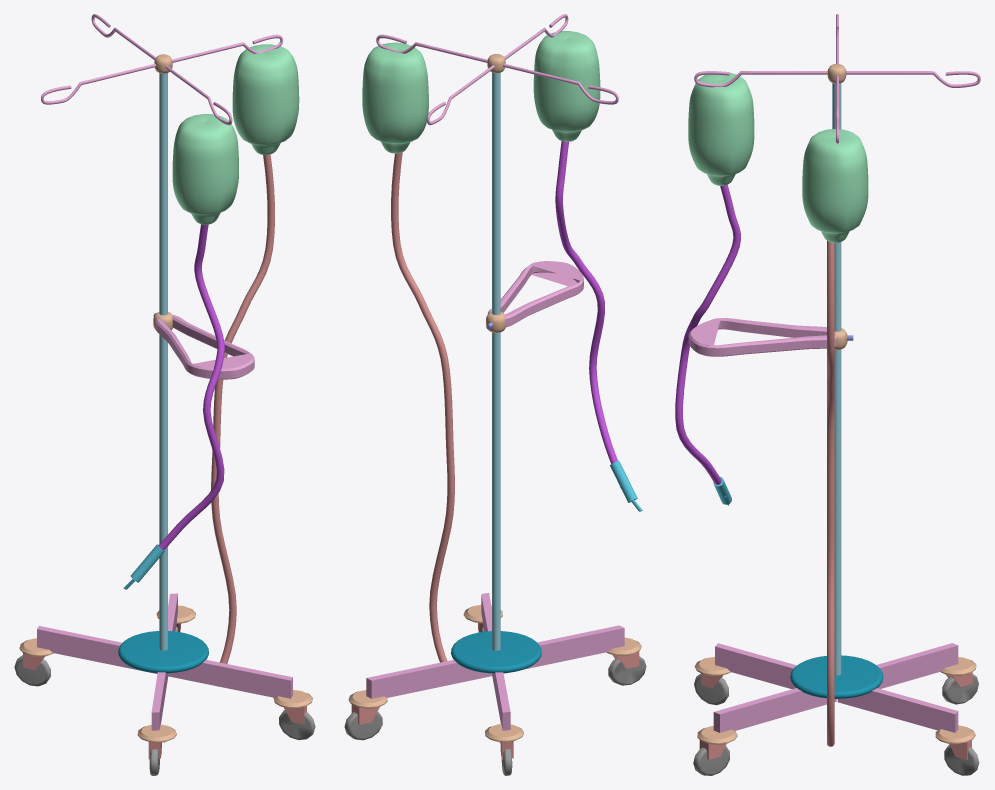
Rendered from Dropper.obj.
3 views of the same model, side by side, from view 1: azimuth 30°, elevation 25°; view 2: azimuth 150°, elevation 25°; view 3: azimuth 270°, elevation 25° (orthographic). The views are drawn at different scales.
Visible parts, largest first — view 1: Line01, Line02, Cylinder01, Loft05, ChamferCyl04, Loft06, Line03, Box17, Box15, ChamferCyl19, ChamferCyl17, Box12 (+3 smaller); view 2: Line02, Line01, Cylinder01, Loft05, ChamferCyl04, Loft06, Box13, Line03, Box12, ChamferCyl13, ChamferCyl12, Box15 (+3 smaller); view 3: Line02, Line01, Loft05, Line03, Cylinder01, ChamferCyl04, Loft06, Box13, Box17, Box12, Box15, ChamferCyl17 (+7 smaller).
Boxes of the visible parts, x1,y1,x2,y2 form: Line01: [172, 114, 238, 224]; Line02: [232, 44, 299, 154]; Cylinder01: [159, 73, 167, 650]; Loft05: [211, 154, 274, 663]; ChamferCyl04: [118, 631, 208, 673]; Loft06: [158, 224, 224, 550]; Line03: [155, 314, 254, 379]; Box17: [168, 659, 292, 698]; Box15: [37, 626, 157, 673]; ChamferCyl19: [279, 710, 315, 740]; ChamferCyl17: [14, 655, 50, 686]; Box12: [151, 672, 168, 730]; Line02: [362, 42, 428, 153]; Line01: [533, 31, 600, 141]; Cylinder01: [492, 72, 500, 650]; Loft05: [391, 152, 454, 662]; ChamferCyl04: [451, 631, 541, 673]; Loft06: [555, 141, 617, 463]; Box13: [366, 660, 492, 698]; Line03: [487, 261, 583, 327]; Box12: [504, 625, 624, 673]; ChamferCyl13: [608, 656, 646, 685]; ChamferCyl12: [344, 711, 382, 740]; Box15: [492, 672, 510, 730]; Line02: [802, 129, 868, 242]; Line01: [688, 72, 754, 185]; Loft05: [827, 241, 834, 746]; Line03: [688, 318, 836, 356]; Cylinder01: [832, 83, 841, 675]; ChamferCyl04: [790, 655, 883, 698]; Loft06: [675, 185, 740, 484]; Box13: [837, 688, 958, 732]; Box17: [713, 688, 836, 732]; Box12: [715, 643, 796, 689]; Box15: [876, 643, 958, 688]; ChamferCyl17: [942, 674, 978, 704].
Size of the model in its own units: 40.42 by 100 by 41.19.
